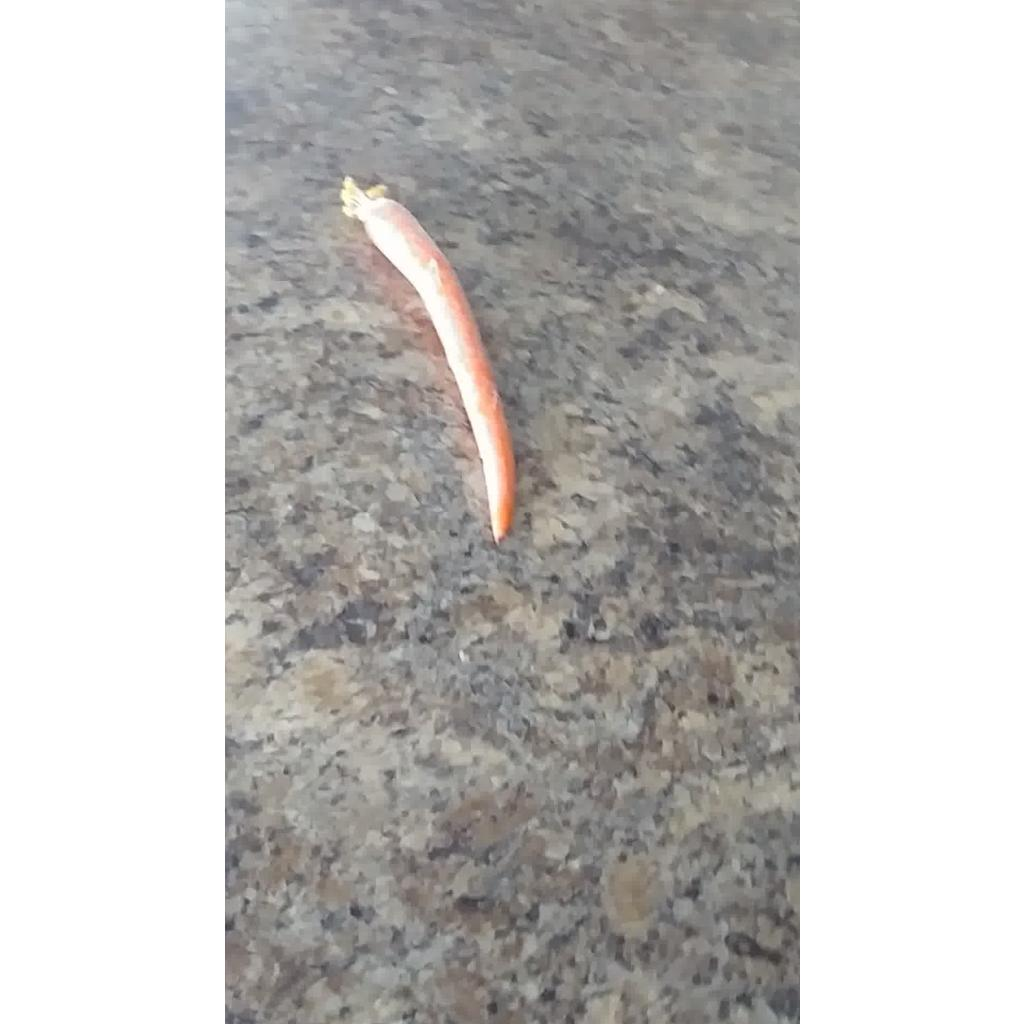carrot: (340, 176, 514, 542)
